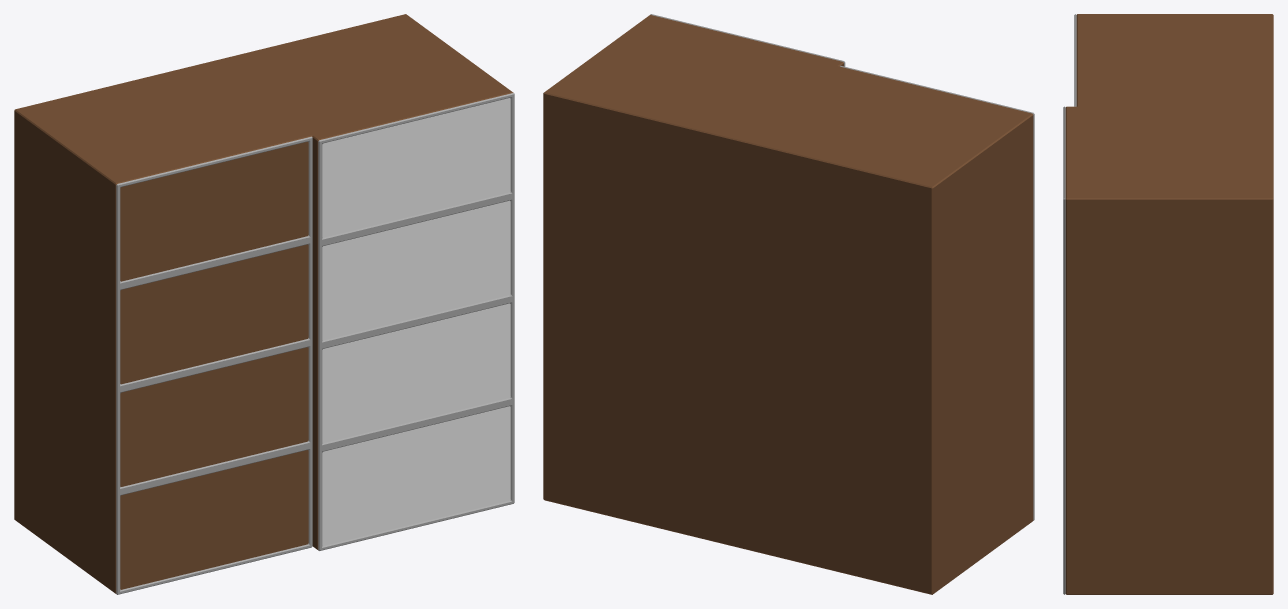
Rendered from tmp_largedresser.fbx.
3 views of the same model, side by side, from view 1: azimuth 30°, elevation 25°; view 2: azimuth 150°, elevation 25°; view 3: azimuth 270°, elevation 25° (orthographic). The views are drawn at different scales.
Visible parts, largest first — view 1: wardrobe; view 2: wardrobe; view 3: wardrobe.
Boxes of the visible parts, x1=… form: wardrobe: x1=14, y1=14, x2=514, y2=594; wardrobe: x1=543, y1=14, x2=1034, y2=594; wardrobe: x1=1063, y1=14, x2=1273, y2=594.
Bounding box in the file's own units: 200 × 200 × 96.
